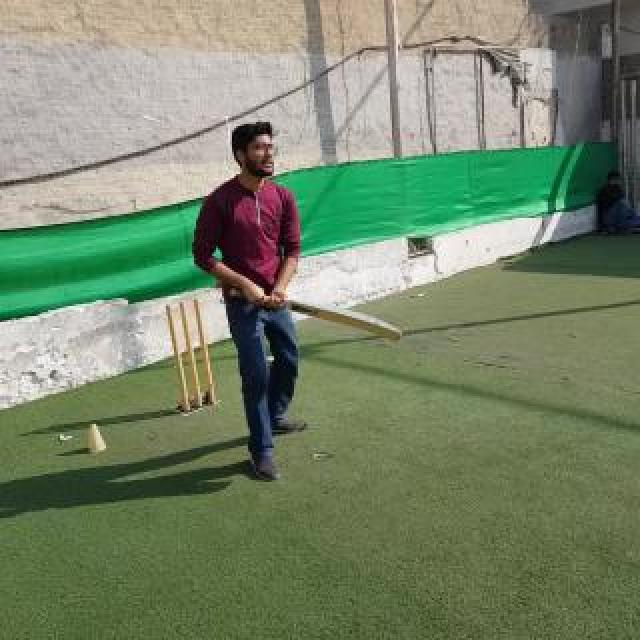bat: (230, 288, 402, 342)
